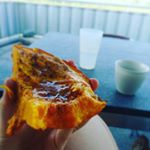cups: (112, 56, 150, 97), (77, 25, 105, 72)
